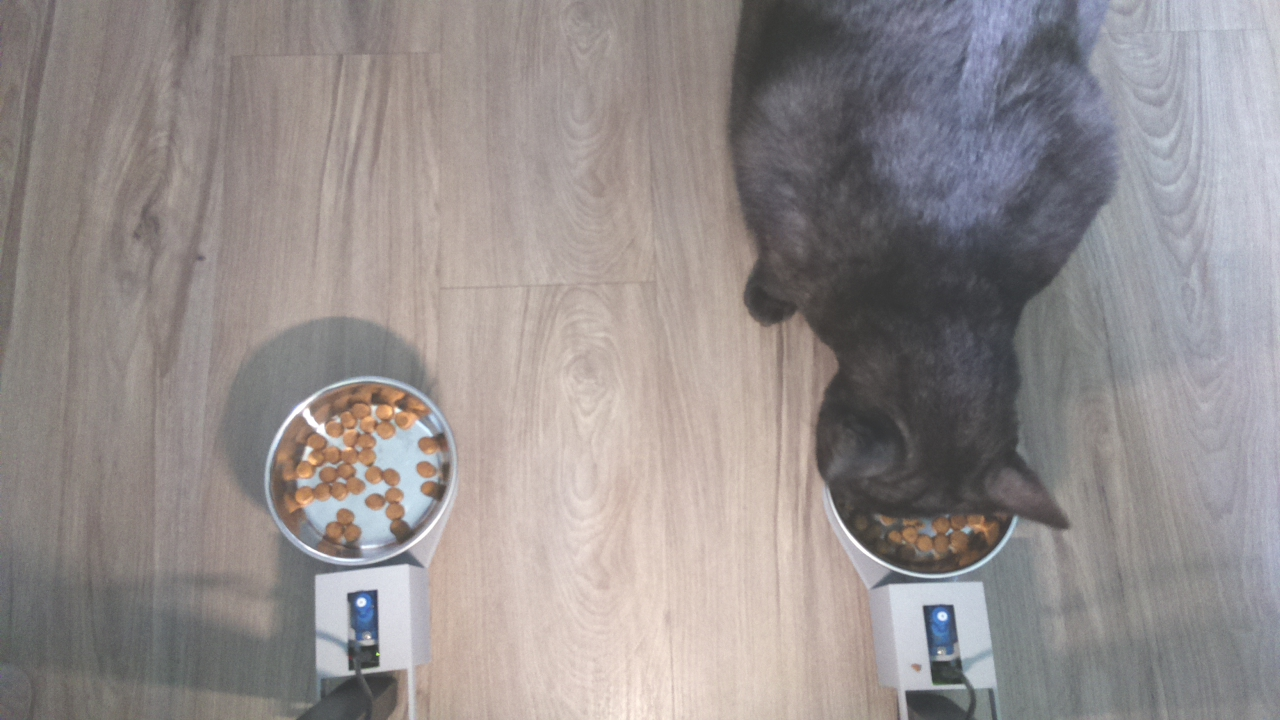open_bowl: (259, 371, 462, 569)
saki_eating: (785, 342, 1098, 576)
